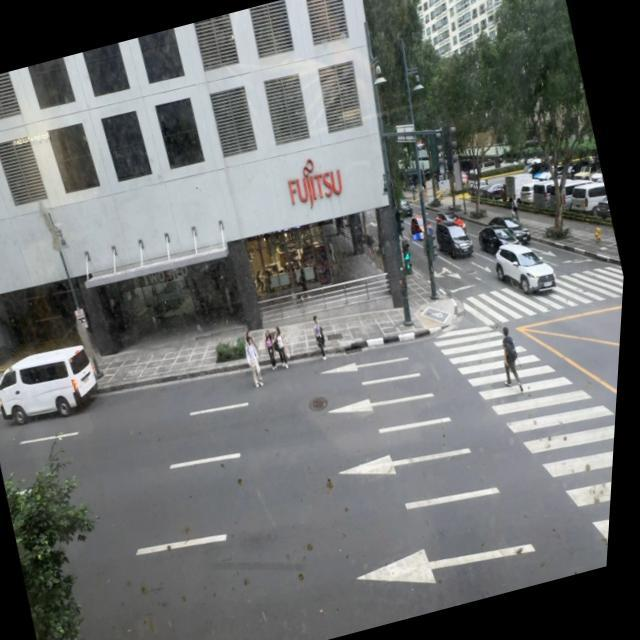jaywalking: (240, 329, 269, 386), (268, 324, 294, 370), (308, 315, 332, 362), (260, 328, 282, 372)
